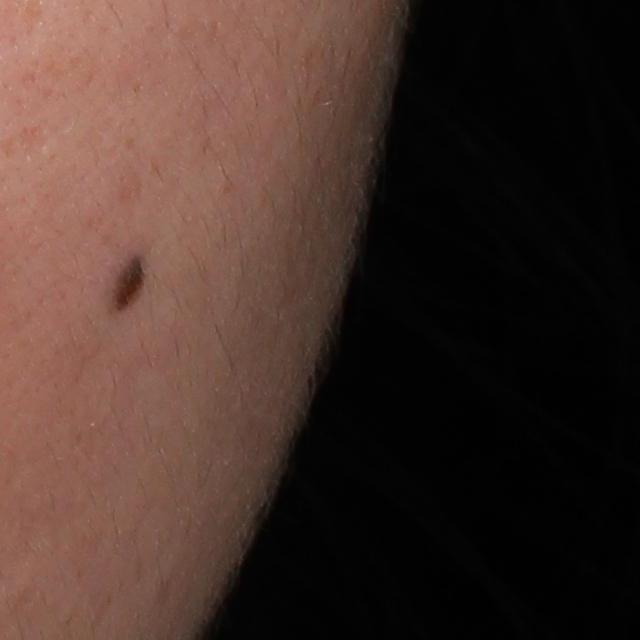nevus: (109, 255, 149, 313)
